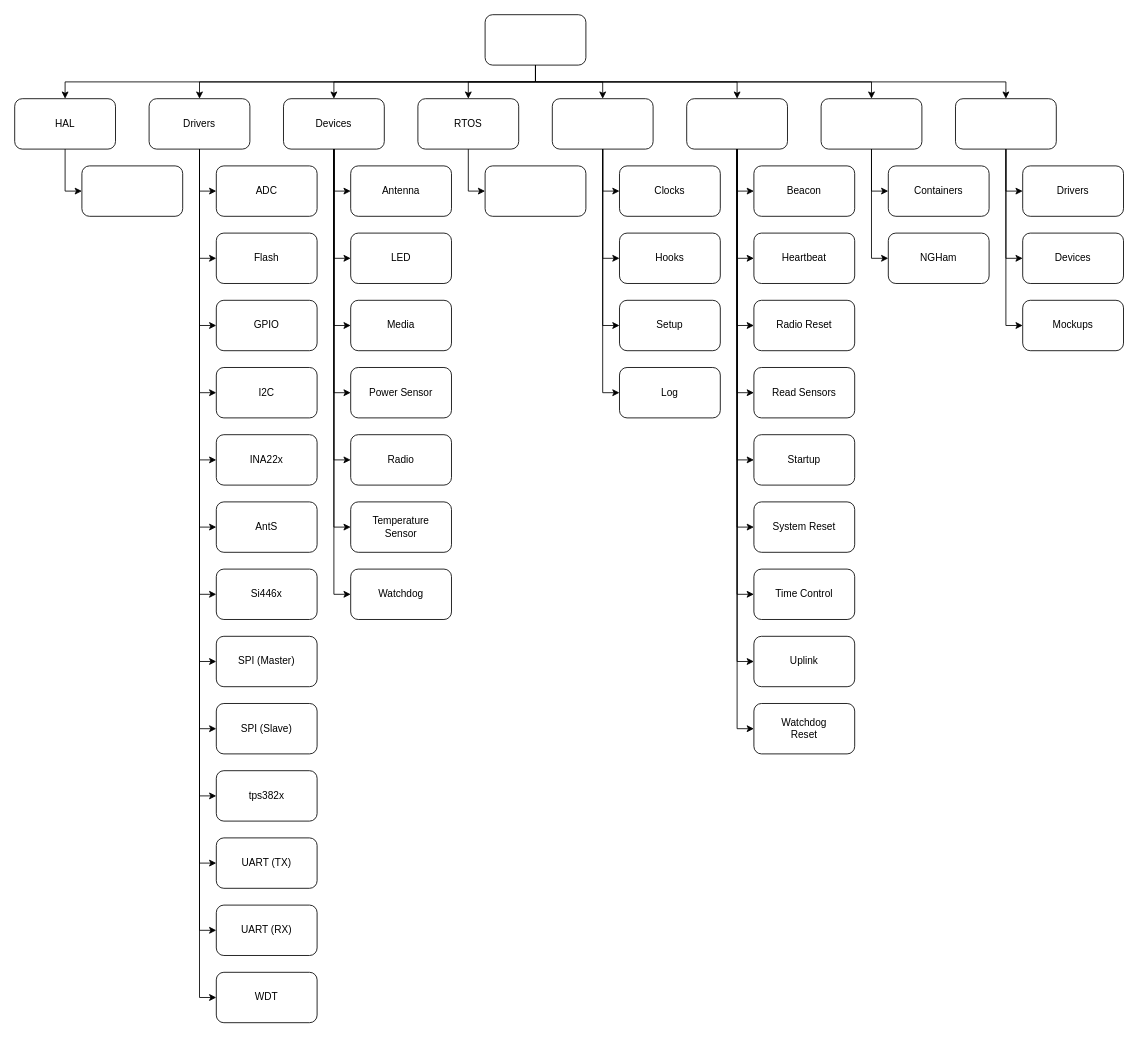
Some shapes in this 1138 by 1037 pixel diagram are drawn without their labels. Here are the shapes that lost their labels. From the top down, the centre of each, then its label:
At (535,39): "TTC 2.0 Firmware".
At (602,123): "System".
At (737,123): "Tasks".
At (871,123): "Libraries".
At (1005,123): "Tests".
At (132,190): "DriverLib".
At (535,190): "FreeRTOS".
